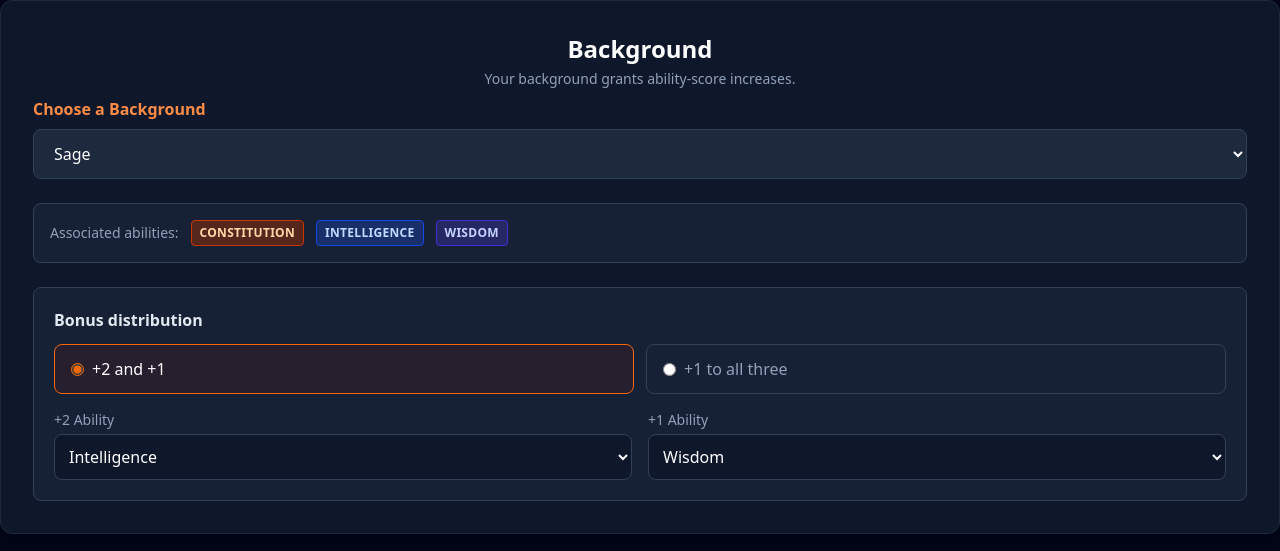
Scenario: Step2Background › clearing the background resets the bonus selections
Select "-- Select Background --" in the dropdown labelled "Choose a Background": (640, 154) [33, 129, 1247, 179]
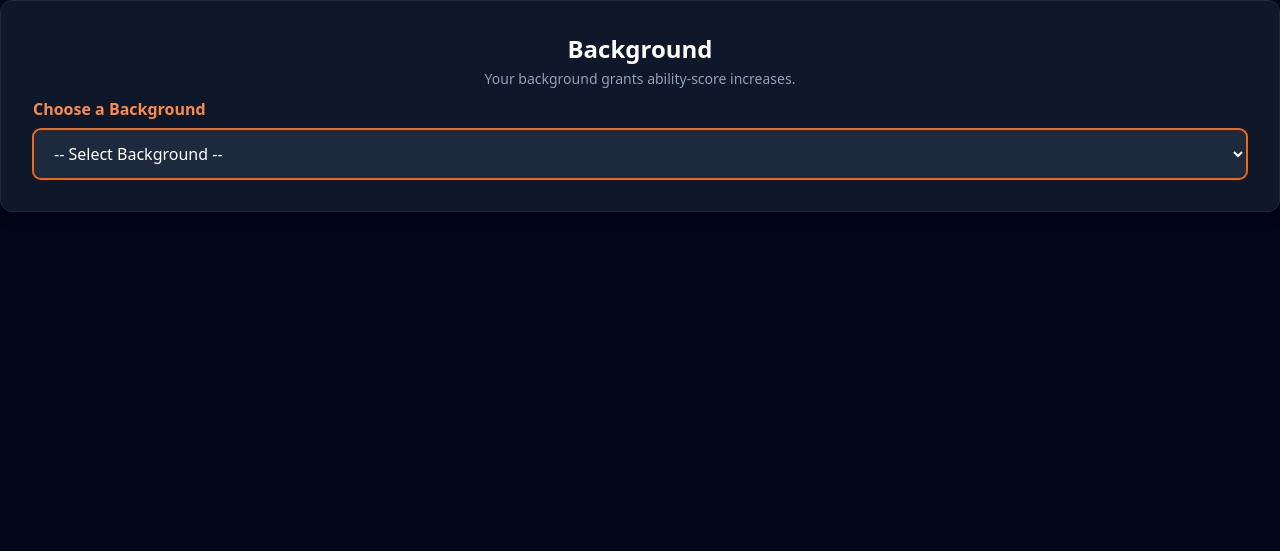
Expected: the heading "Bonus distribution" is gone
